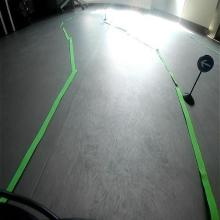left: (196, 54, 214, 74)
